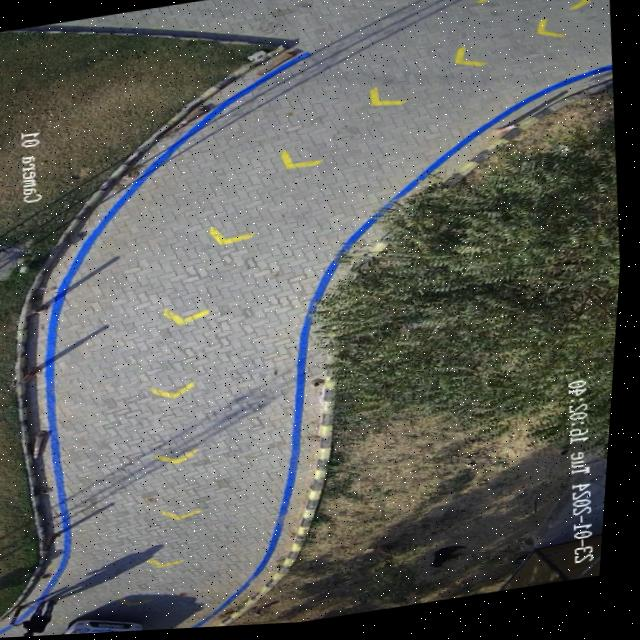car: (71, 622, 150, 636)
